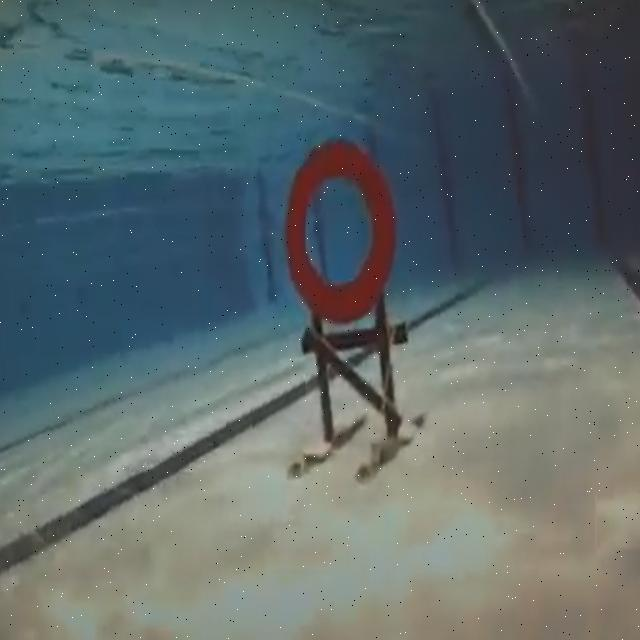Circle: (286, 134, 396, 332)
